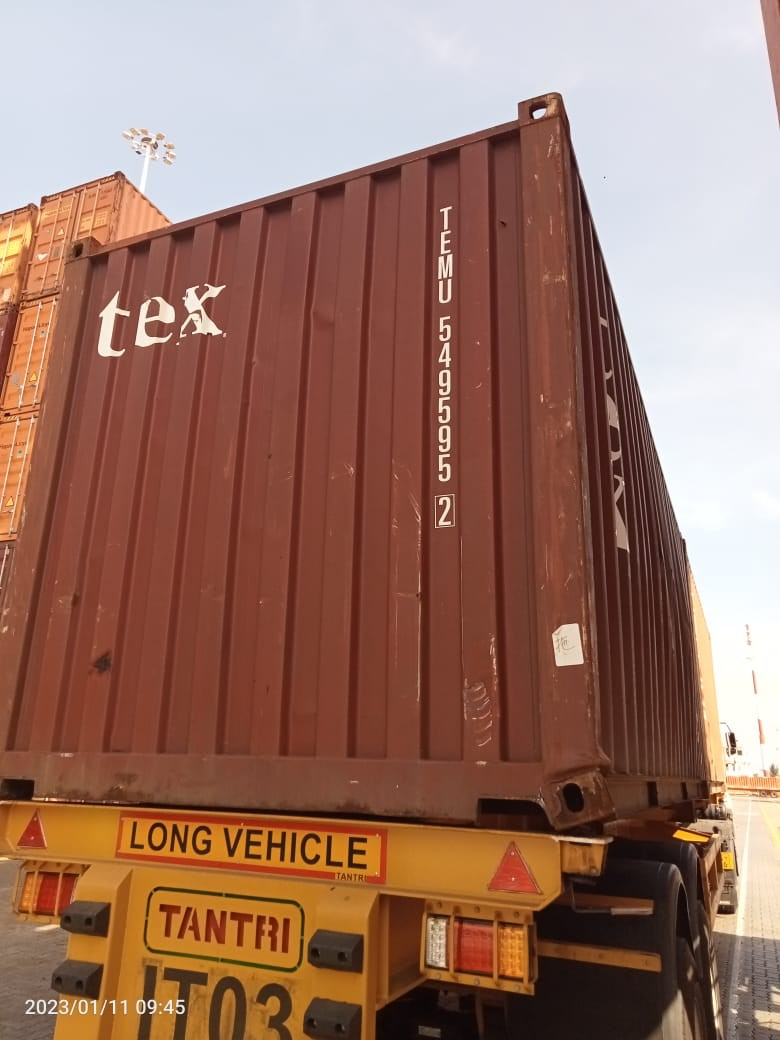moderate: (538, 720, 625, 801)
